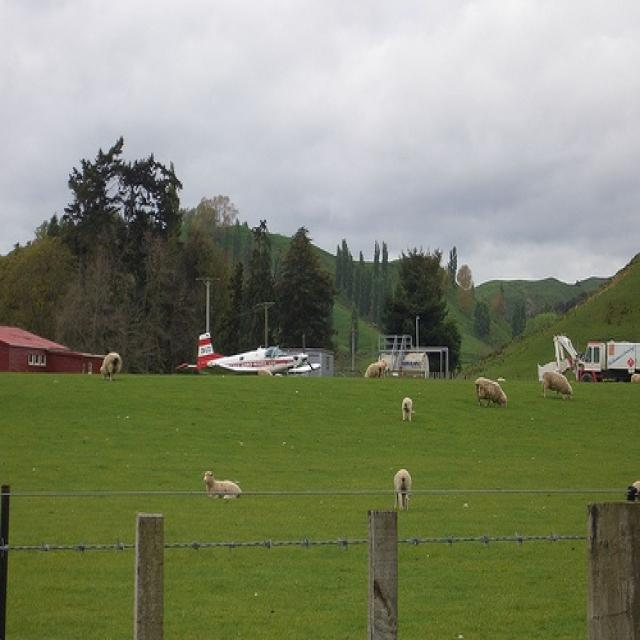aeroplane: (178, 333, 312, 375)
sheep: (472, 374, 508, 409), (202, 469, 242, 500), (542, 372, 574, 403), (394, 468, 412, 510), (98, 353, 123, 379), (398, 398, 414, 418)
